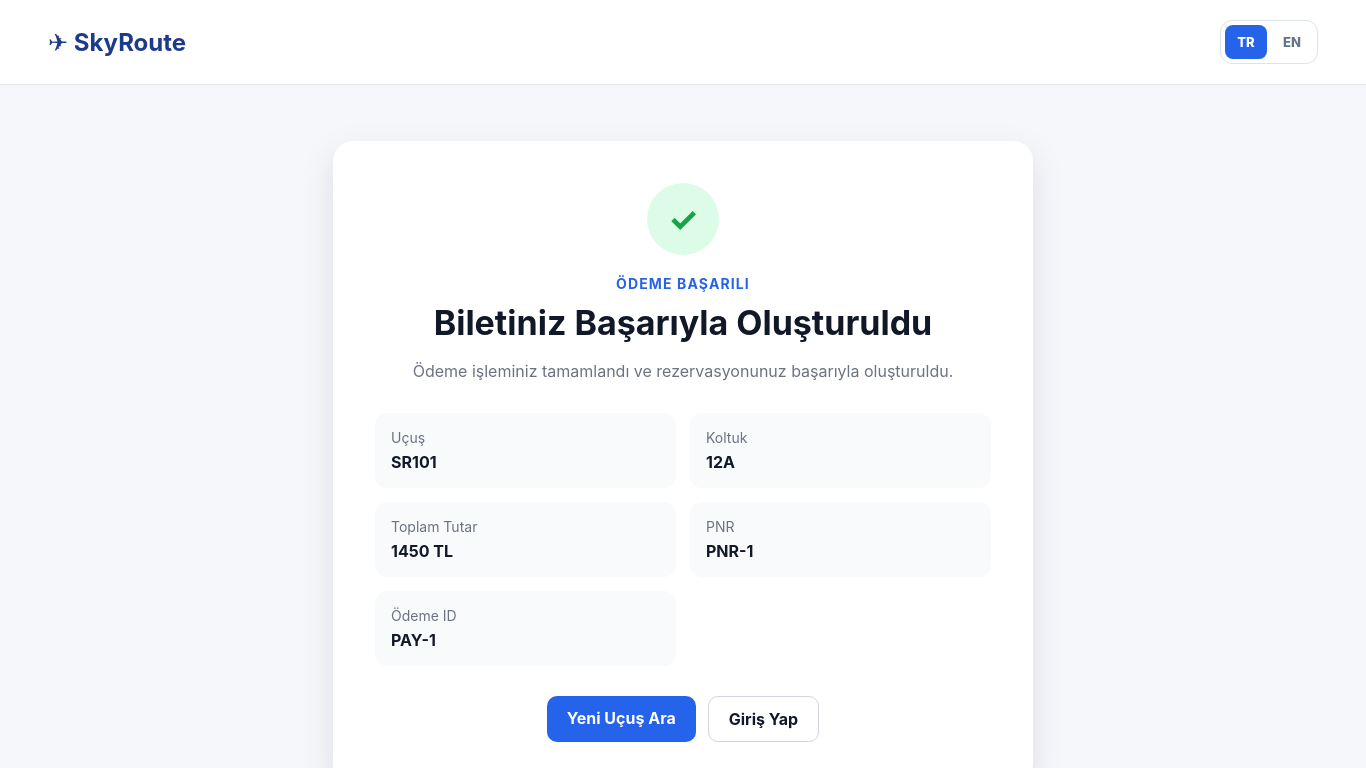
Test: payment frontend flow › translates the payment success page
Click the button with aria-label "English".
click(1292, 42)  # box [1271, 25, 1313, 59]
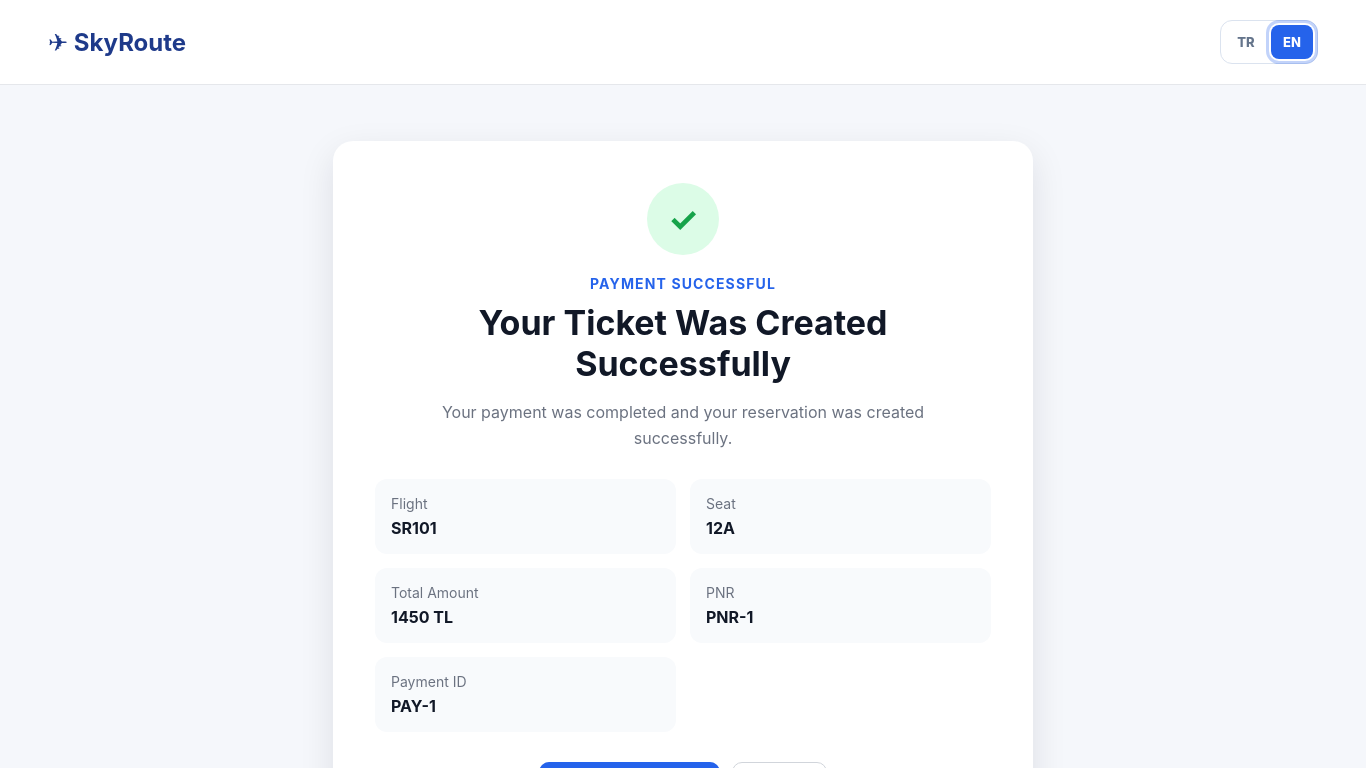
Now the heading "Your Ticket Was Created Successfully" is shown, box [478, 302, 888, 384]
Now the text "Payment ID" is shown, box [391, 673, 466, 690]
